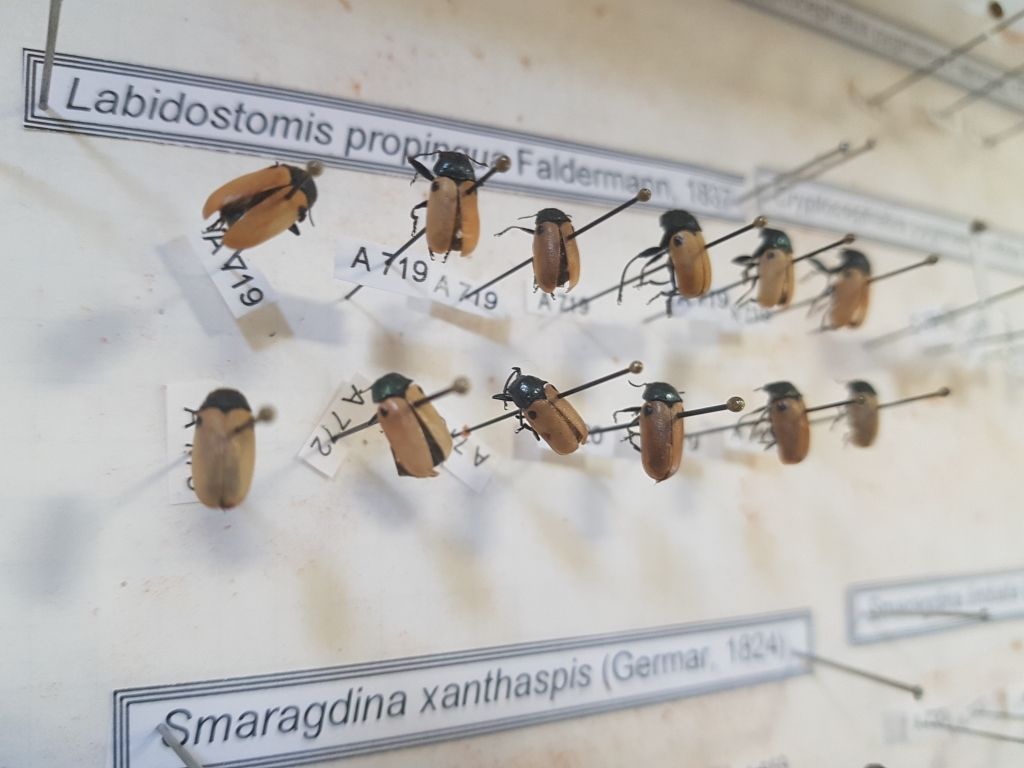Labidostomis_propinqua: (613, 197, 721, 318), (202, 155, 321, 255), (184, 382, 265, 515), (492, 357, 594, 462), (405, 141, 486, 266), (369, 372, 458, 483), (491, 198, 588, 298), (613, 378, 693, 486), (802, 233, 874, 340), (732, 218, 799, 322), (755, 376, 813, 465), (831, 376, 893, 456)
